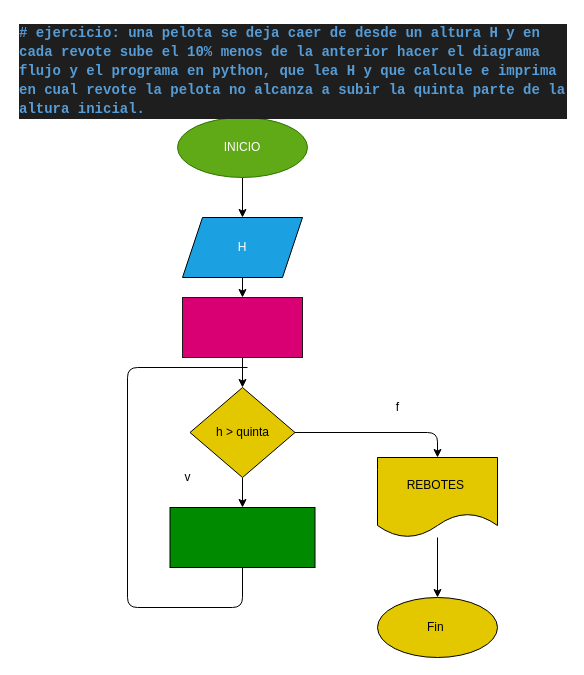
Image size: 584x675. Some labels were removed from this diagram. Here are the shapes that lost their labels. From the top down, the box of each, then its label:
(182, 296, 302, 358): Rebote = 0 quinta = ( h / 5)
(169, 506, 315, 568): h = h -( h * 10 % Rebotes = rebotes +1
